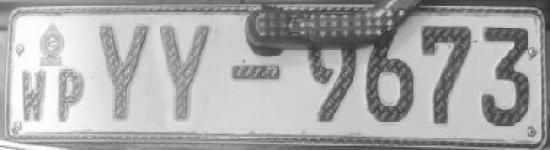-: (226, 56, 283, 88)
3: (472, 20, 536, 136)
6: (362, 21, 416, 128)
7: (418, 19, 474, 132)
P: (54, 66, 87, 129)
W: (16, 66, 50, 124)
Y: (153, 22, 217, 126), (90, 20, 153, 125)
